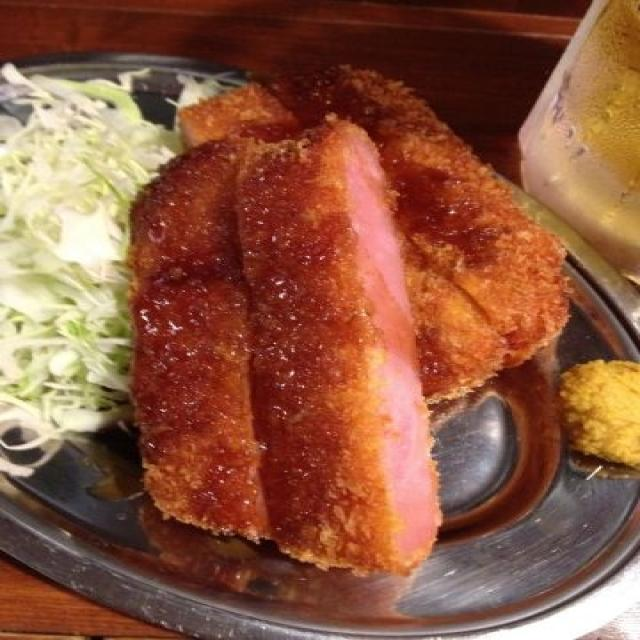炸货点心: (21, 27, 612, 613)
